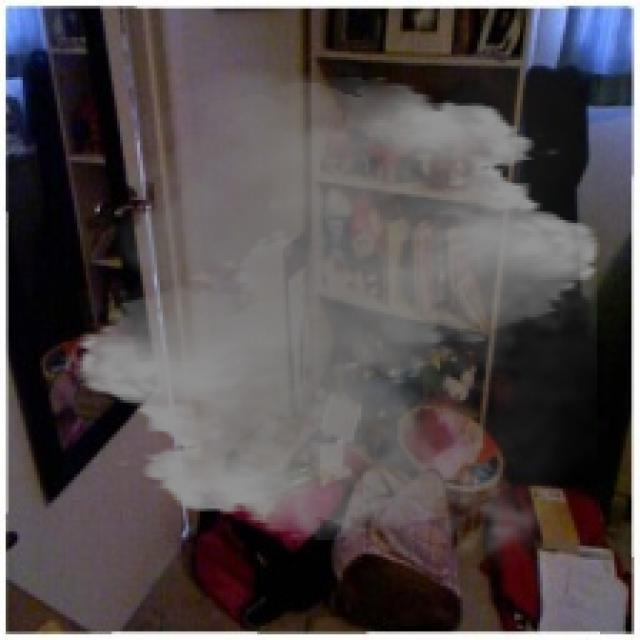Smoke: (60, 54, 617, 574)
